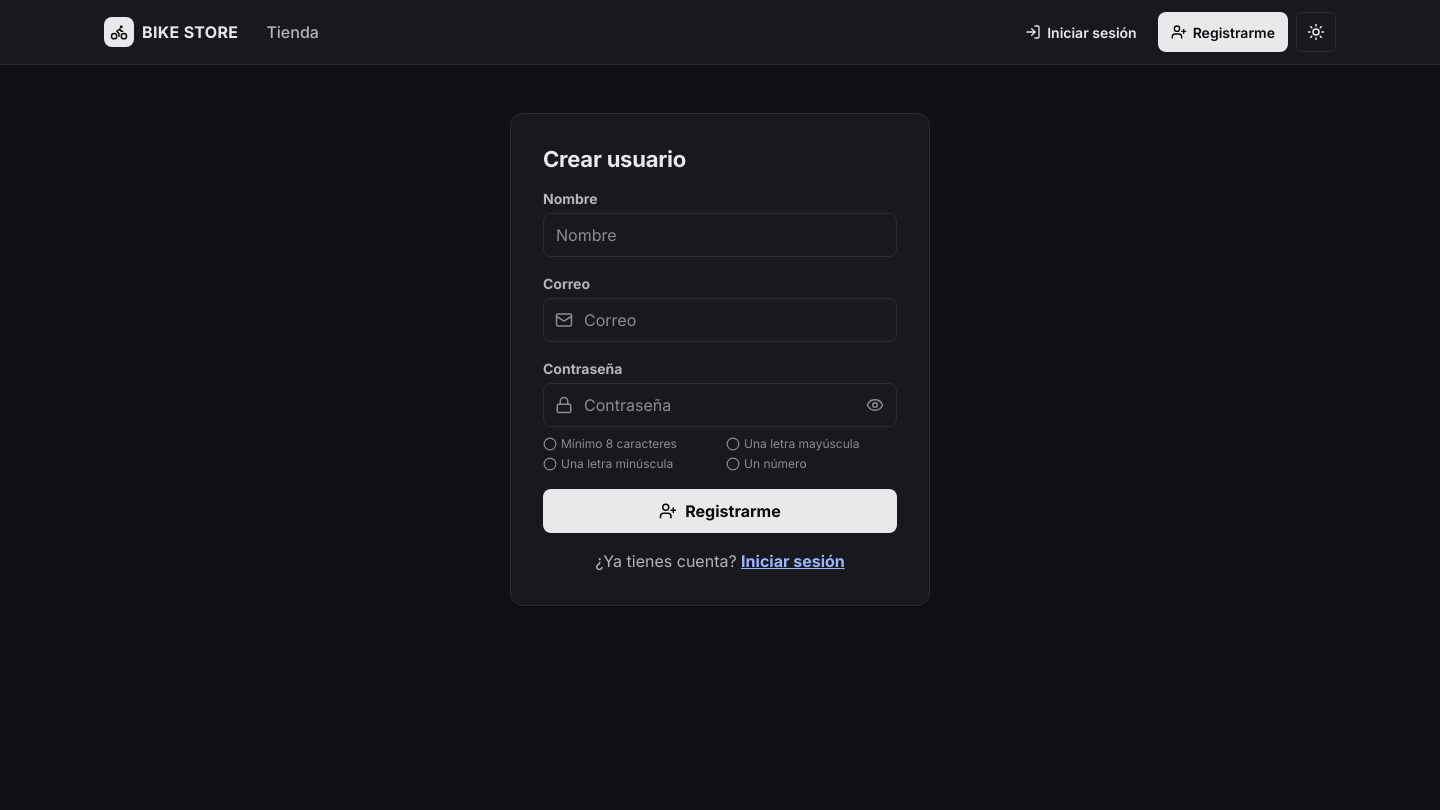
Test: Registro (CU-09) › no muestra errores de un campo hasta que el usuario sale de él
The width and height of the screenshot is (1440, 810).
Type "ana@" into the field with placeholder "Correo". click: [720, 320]
box: [543,298,897,342]
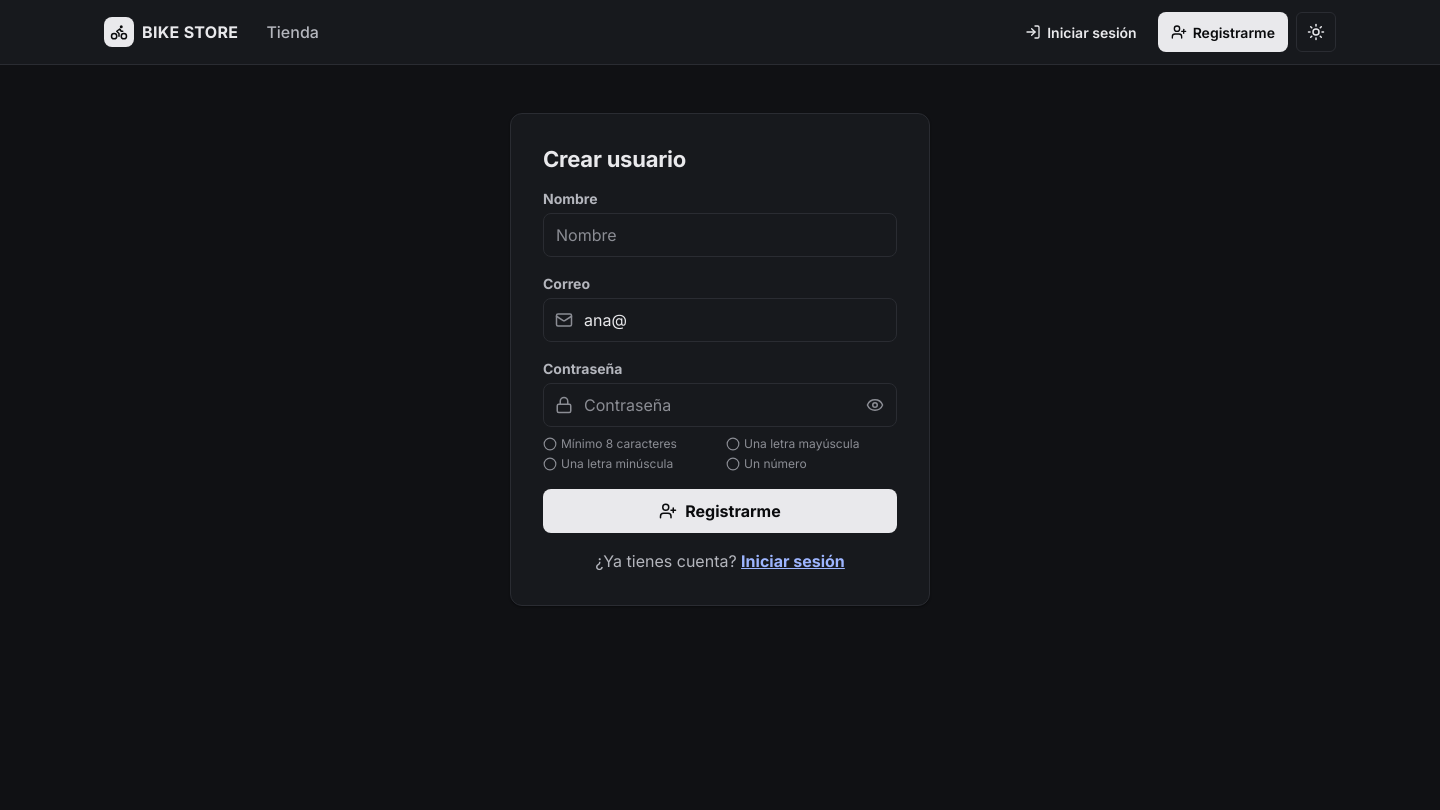
Expected: the text "El correo no tiene un formato válido" is not shown
Leave the field with placeholder "Correo", box [543,298,897,342]
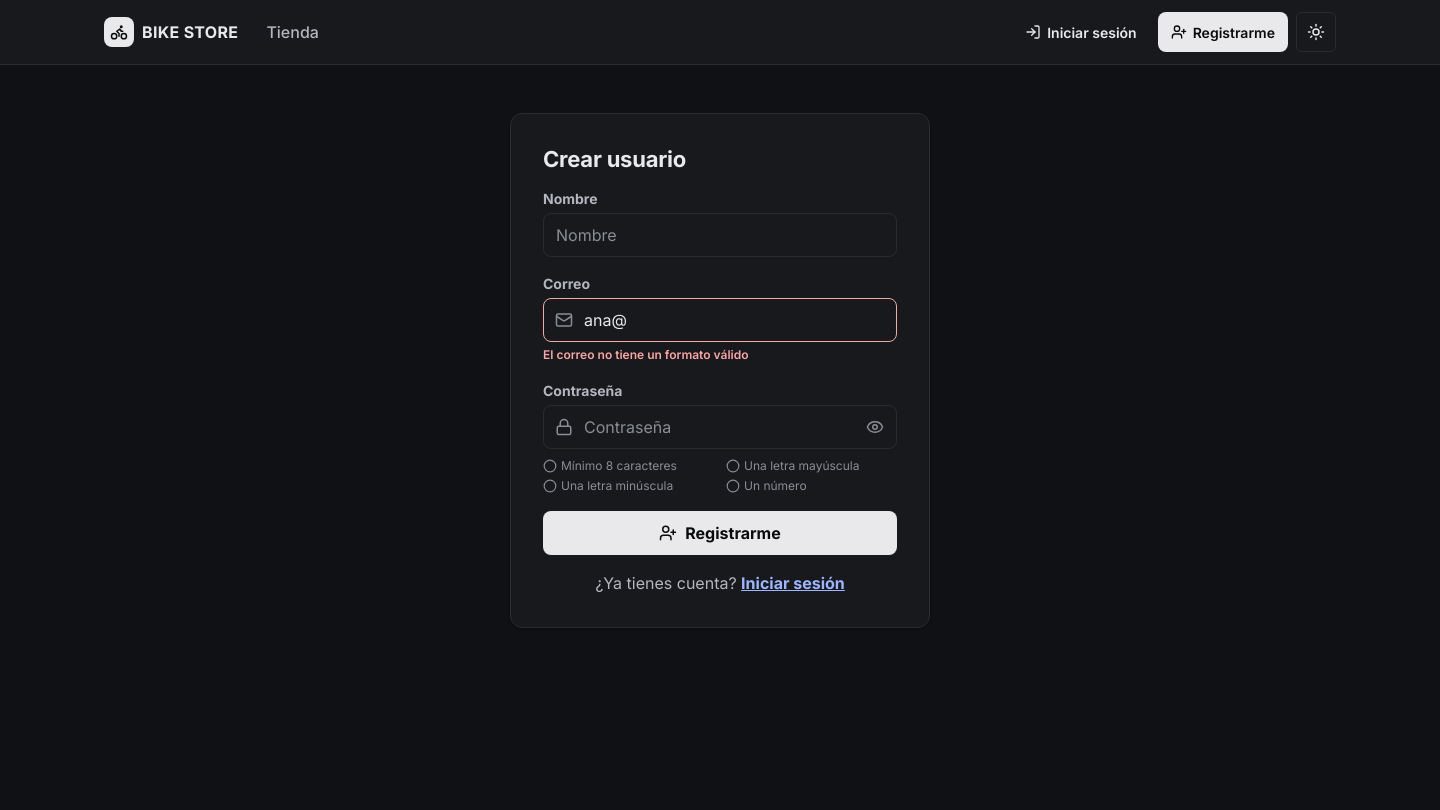
Now the text "El correo no tiene un formato válido" is shown, box [543,347,748,362]
